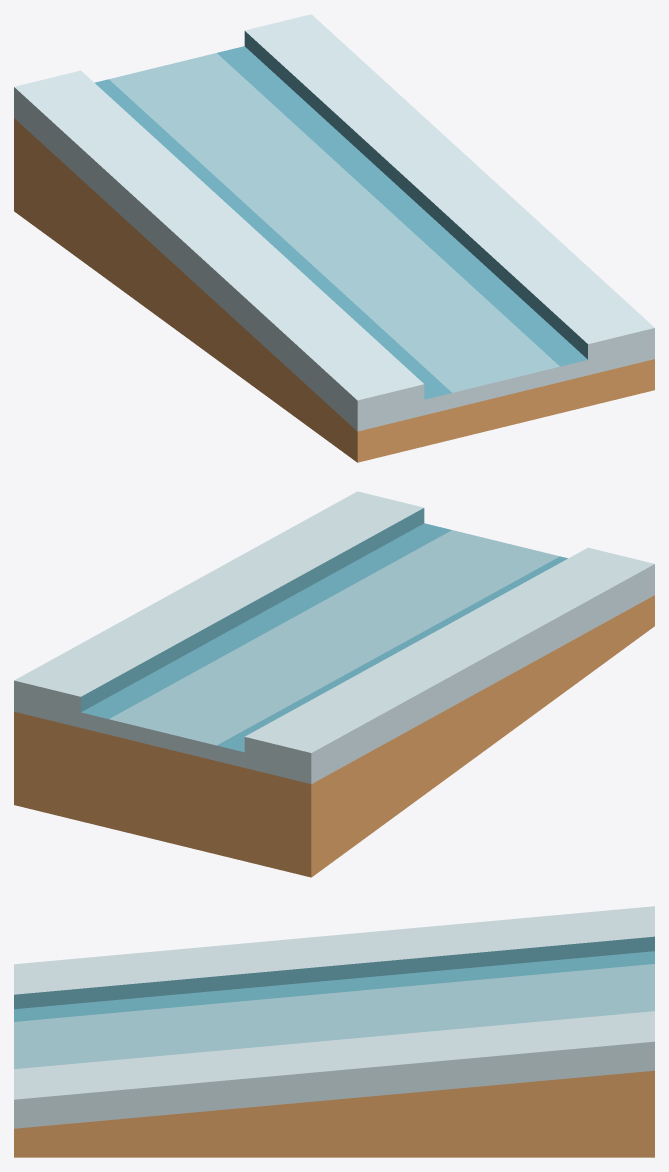
The model's file is snow_tile_straightHillLarge.dae.
3 views of the same model, one above another, from view 1: azimuth 30°, elevation 25°; view 2: azimuth 150°, elevation 25°; view 3: azimuth 270°, elevation 25° (orthographic). The views are drawn at different scales.
Visible parts, largest first — view 1: snow_tile_straightHillLarge; view 2: snow_tile_straightHillLarge; view 3: snow_tile_straightHillLarge.
Part boxes in pixels (x1,y1,x2,y2): snow_tile_straightHillLarge: [14, 14, 654, 462]; snow_tile_straightHillLarge: [14, 491, 654, 877]; snow_tile_straightHillLarge: [14, 906, 654, 1157].
Bounding box in the file's own units: 1 × 0.4 × 2.
